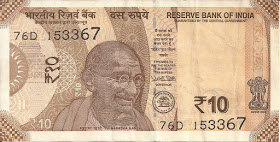ten_rupees_note: (1, 1, 278, 142)
